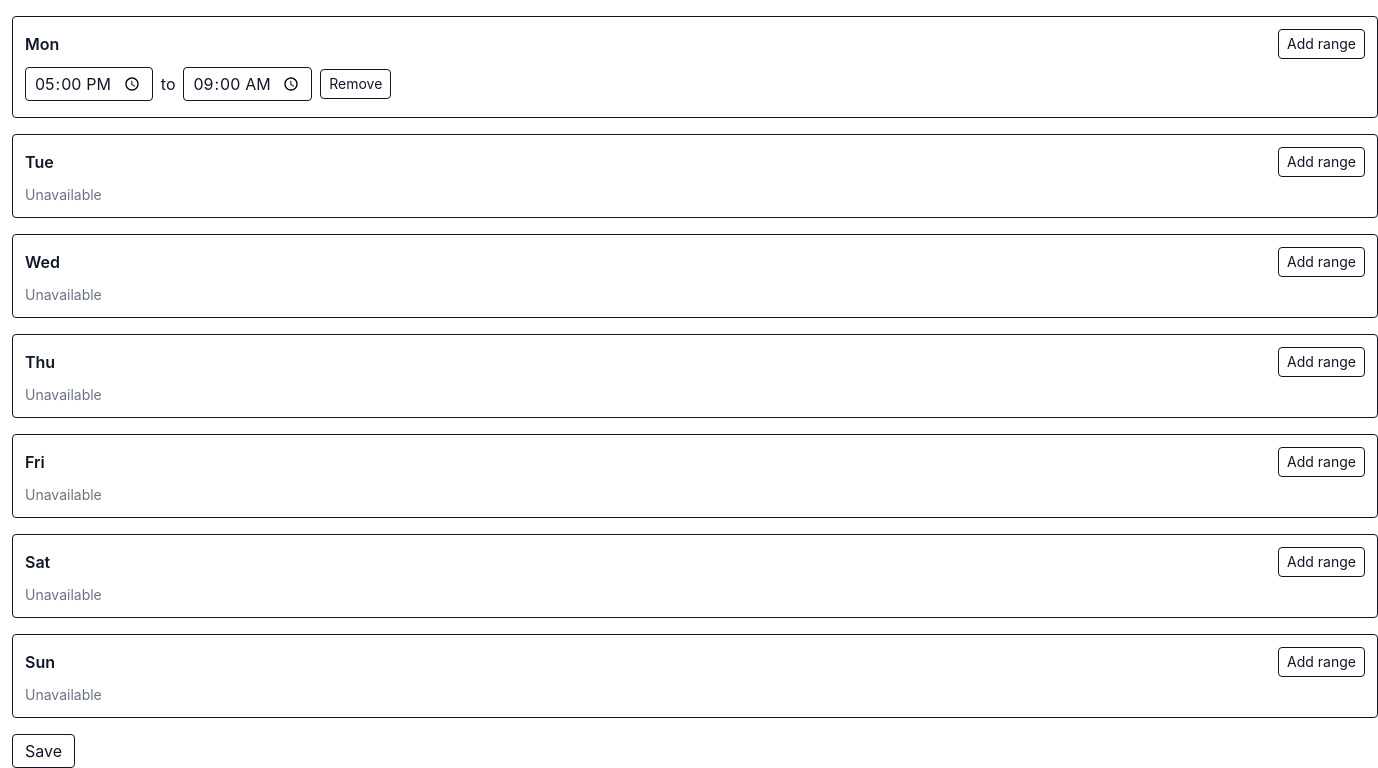
it: HostAvailabilityPage › rejects a range that does not end after it starts
(page scrolled)
Expected: the time field named "mon start 0" is shown, top-left (25, 67), bottom-right (153, 101)
Click the button "Save". click: (44, 751)
box: top-left (12, 734), bottom-right (75, 767)
(page scrolled)
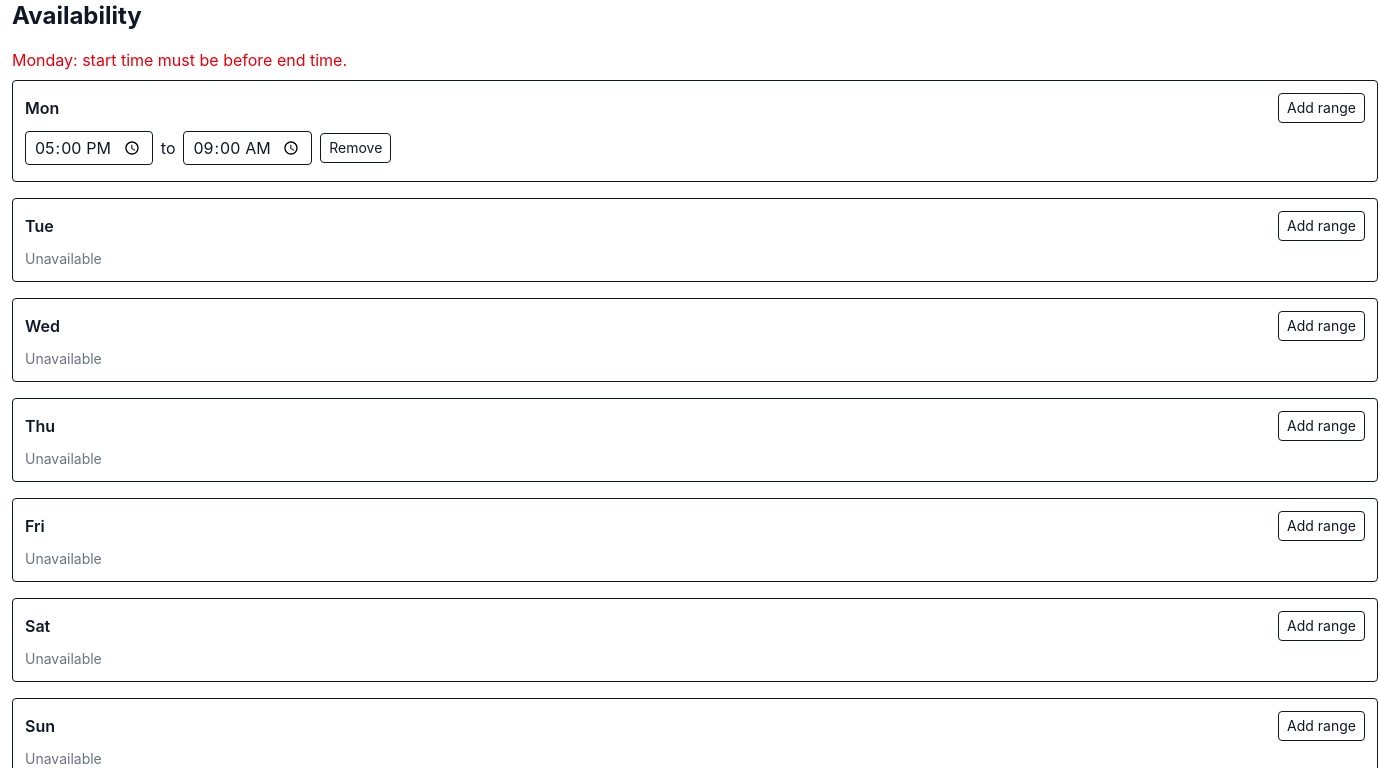
Expected: the message shows "start time must be before end time", top-left (12, 50), bottom-right (347, 70)
